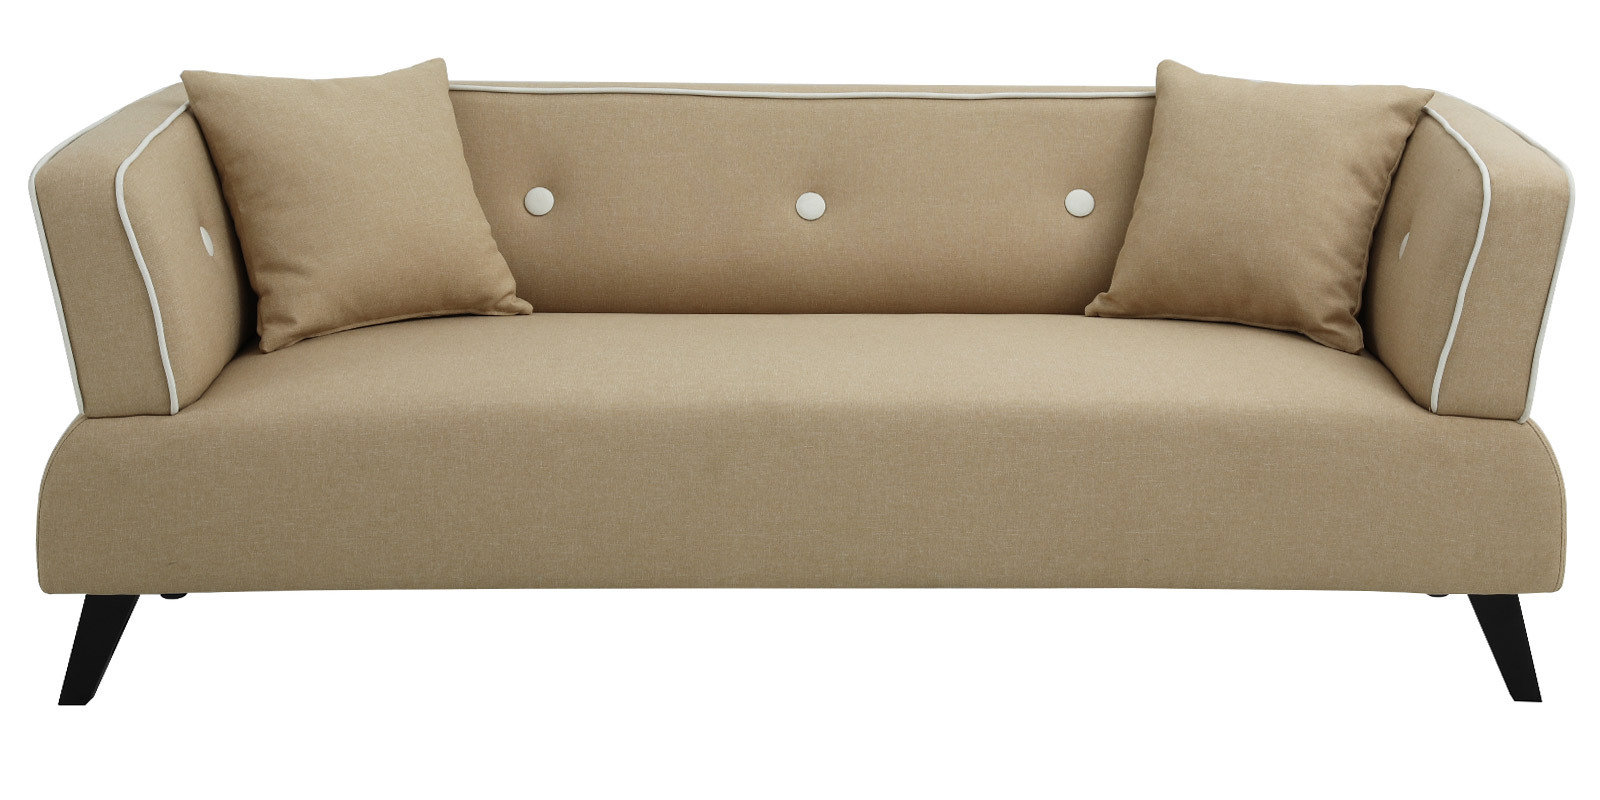Dime Three Seater Sofa in Beige Colour by Zofa: (13, 40, 1576, 724)
